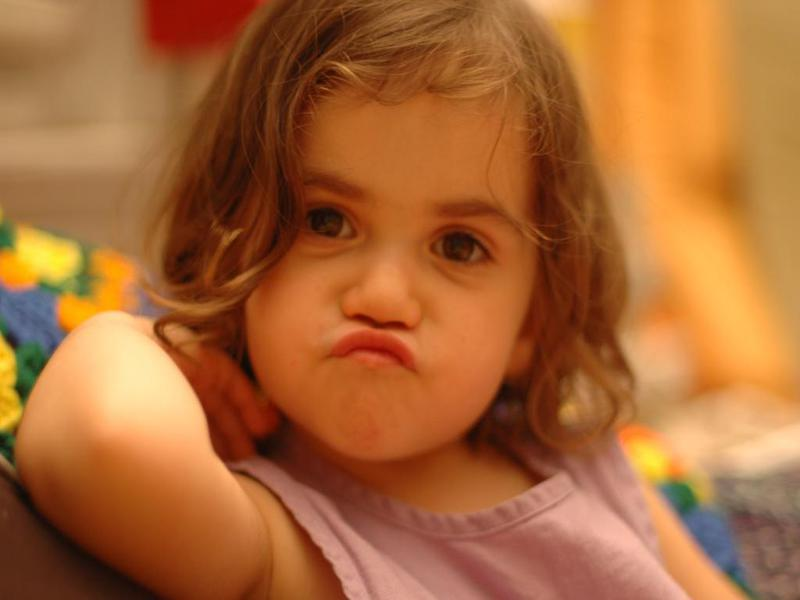person: (20, 5, 743, 600)
